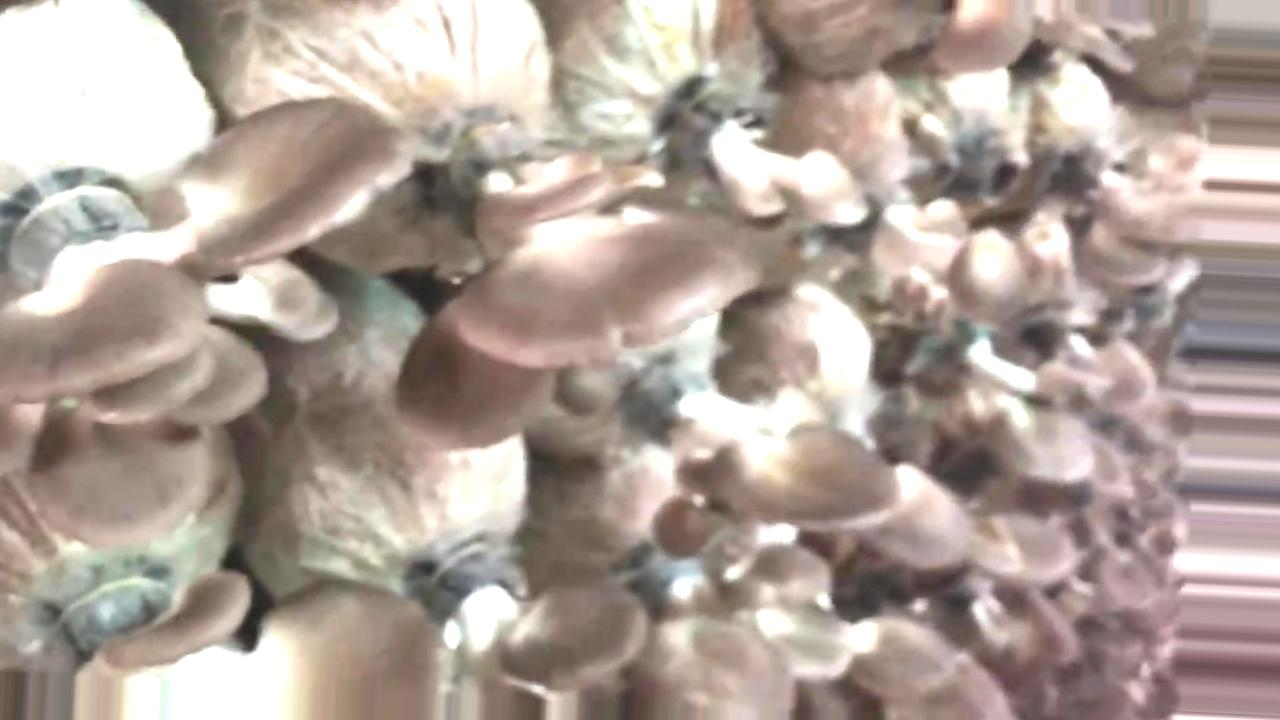nam: (1, 96, 416, 426), (396, 118, 757, 452), (56, 563, 445, 720), (409, 549, 648, 687), (707, 423, 906, 534)
